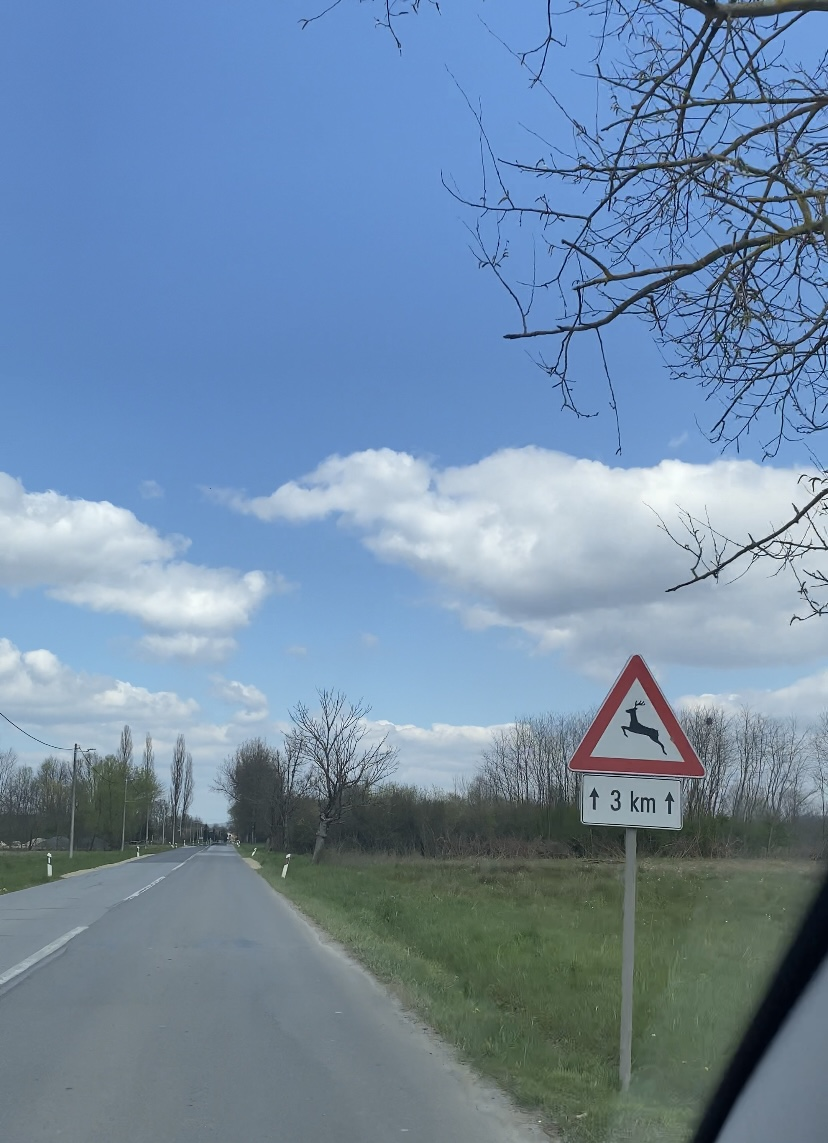Divljač na cesti: (568, 653, 706, 779)
